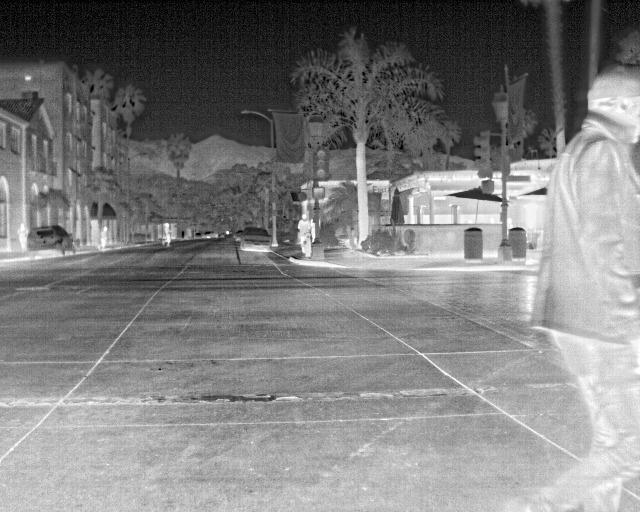bicycle: (28, 223, 76, 259), (237, 227, 274, 253)
empty: (520, 62, 638, 509), (295, 210, 313, 257), (159, 222, 175, 249), (16, 221, 28, 254), (97, 225, 109, 251)
